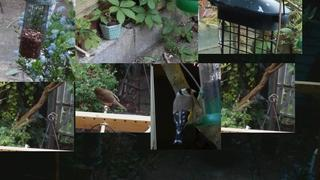goldfinch: (172, 87, 197, 144)
robin: (92, 87, 127, 110)
